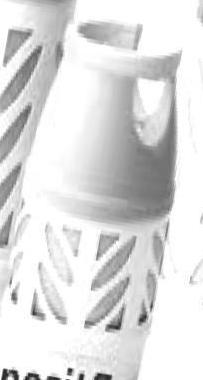cylinder: (1, 1, 203, 380)
